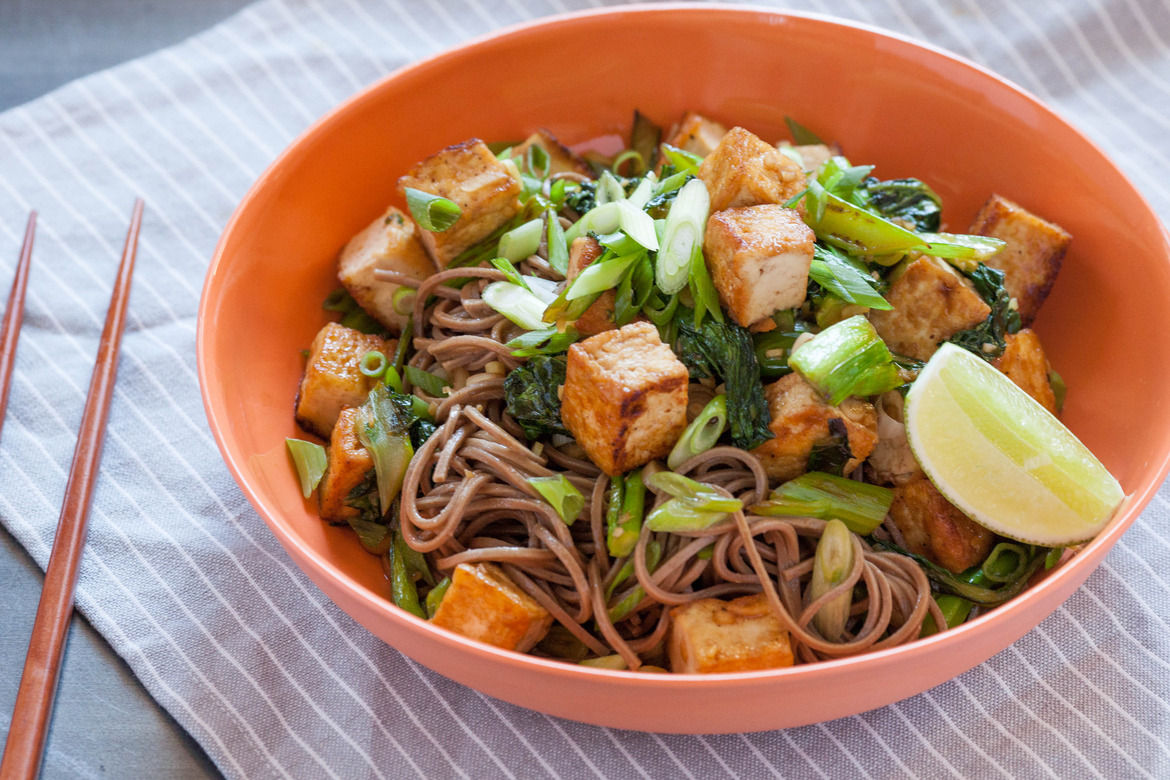Soba: (289, 125, 1105, 687)
